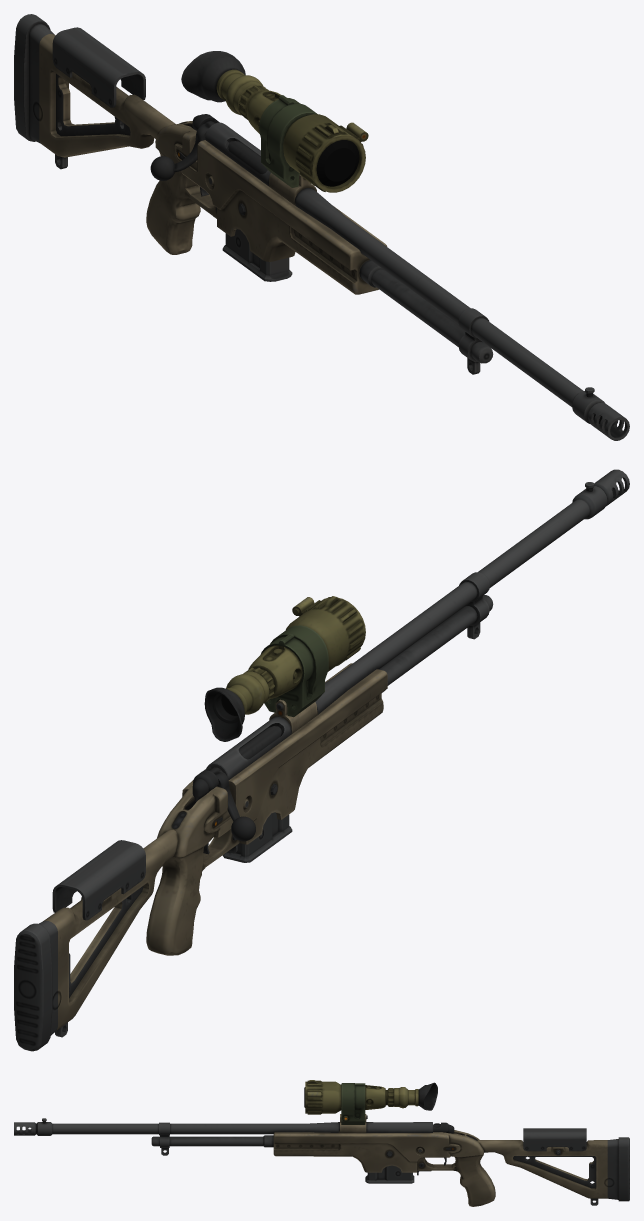
Rendered from sniper.fbx.
3 views of the same model, one above another, from view 1: azimuth 30°, elevation 25°; view 2: azimuth 150°, elevation 25°; view 3: azimuth 270°, elevation 25° (orthographic). The views are drawn at different scales.
Parts seen in each view (by area): view 1: base, scope, bolt, clip; view 2: base, scope, bolt, clip; view 3: base, scope, clip.
Part boxes in pixels (x1,y1,x2,y2): base: [14, 14, 629, 440]; scope: [181, 51, 368, 192]; bolt: [150, 121, 267, 180]; clip: [222, 229, 292, 281]; base: [14, 469, 629, 1051]; scope: [204, 596, 365, 741]; bolt: [209, 726, 281, 841]; clip: [222, 812, 292, 862]; base: [14, 1114, 629, 1206]; scope: [304, 1080, 437, 1124]; clip: [365, 1165, 414, 1183].
Bounding box in the file's own units: 12.16 × 33.58 × 151.
1 material, 1 textured.
